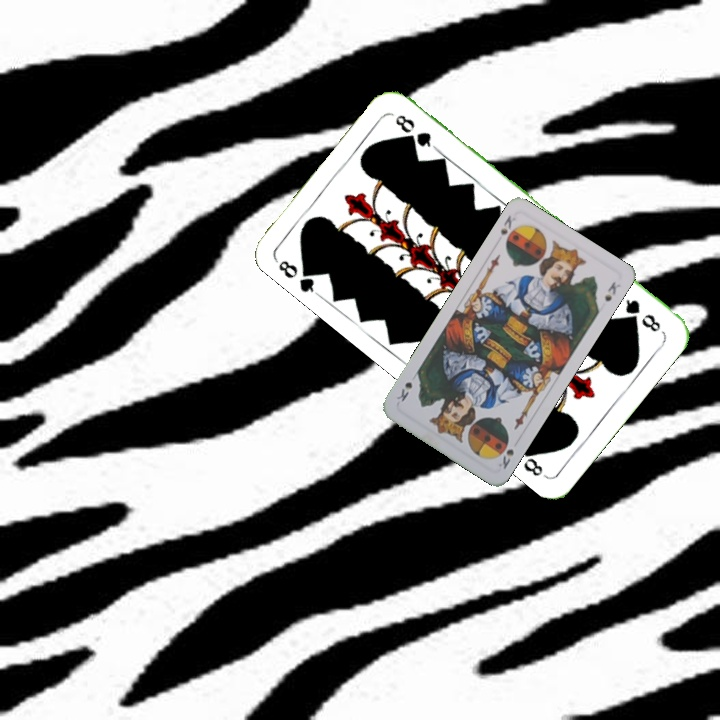G8: (272, 256, 322, 299), (616, 293, 664, 335)
SK: (496, 211, 520, 249), (494, 436, 517, 472)
